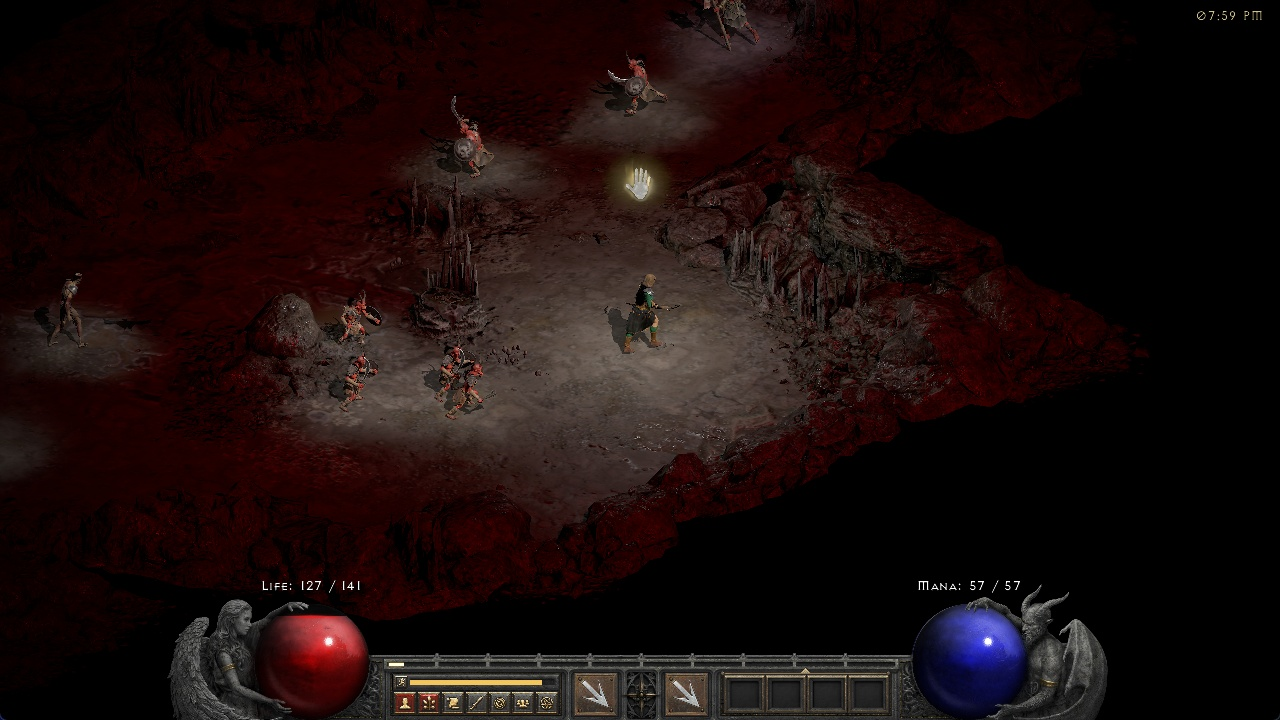fallen: (442, 101, 496, 174), (608, 51, 665, 115), (337, 296, 379, 343), (458, 363, 491, 414), (344, 356, 375, 409), (437, 342, 461, 373)
